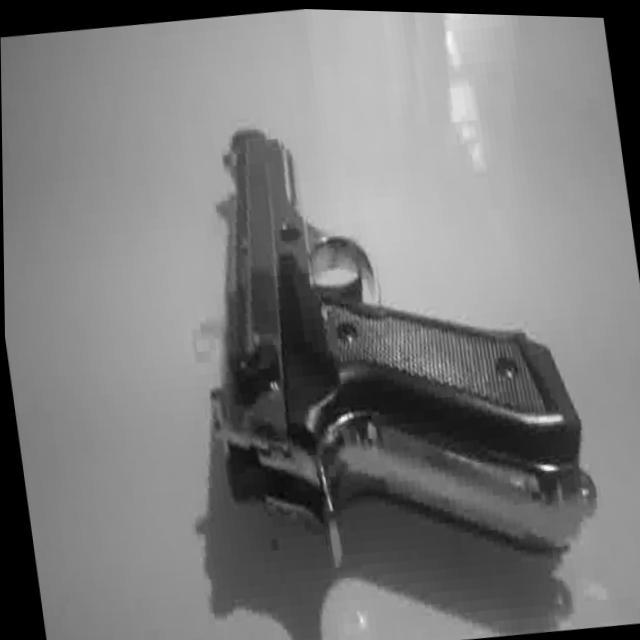weapon: (171, 87, 602, 588)
